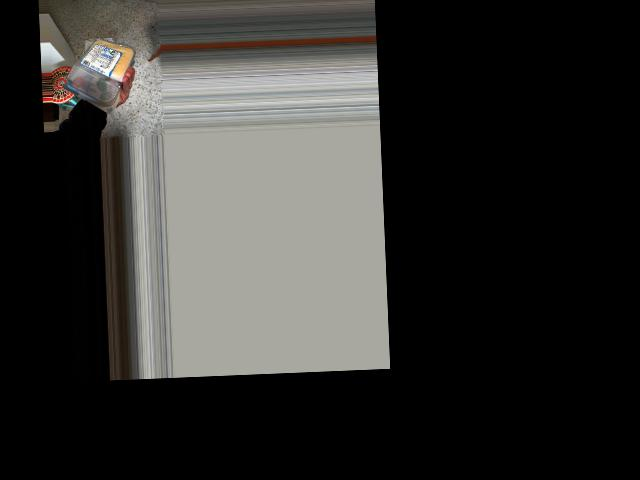cheese: (60, 32, 128, 104)
